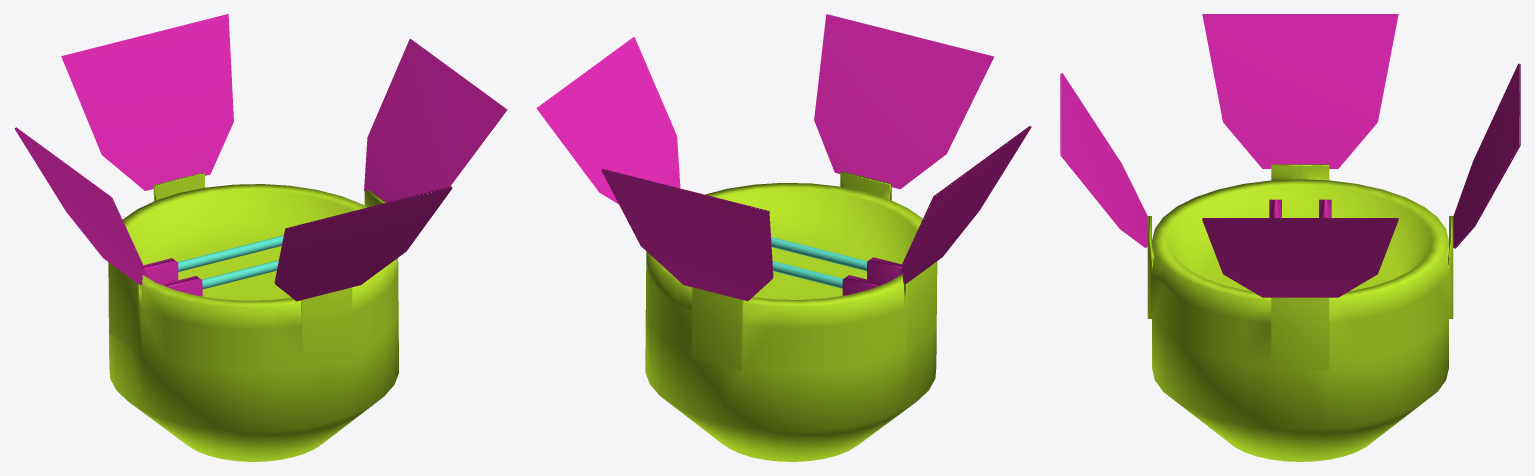
Rendered from SM_RH_Light.fbx.
The picture shows the model from 3 angles, left to right: view 1: azimuth 30°, elevation 25°; view 2: azimuth 150°, elevation 25°; view 3: azimuth 270°, elevation 25°; orthographic projection. The views are drawn at different scales.
Visible parts, largest first — view 1: Cylinder.012; view 2: Cylinder.012; view 3: Cylinder.012.
Part boxes in pixels (x1,y1,x2,y2): Cylinder.012: (14,14,507,461); Cylinder.012: (536,14,1031,461); Cylinder.012: (1060,14,1520,461).
Bounding box in the file's own units: 53.7 × 41.13 × 52.7.
